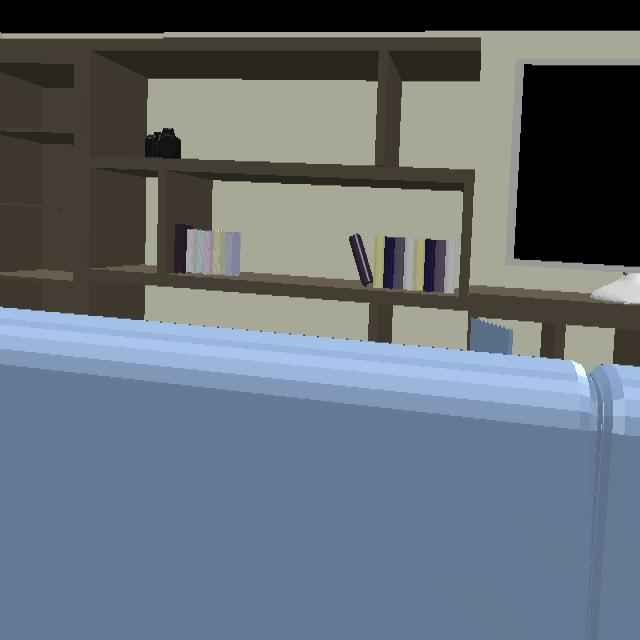book: (349, 235, 457, 293), (170, 224, 241, 275)
bookshelf: (0, 36, 620, 343)
monitor: (512, 59, 640, 308)
sofa: (0, 309, 640, 640)
